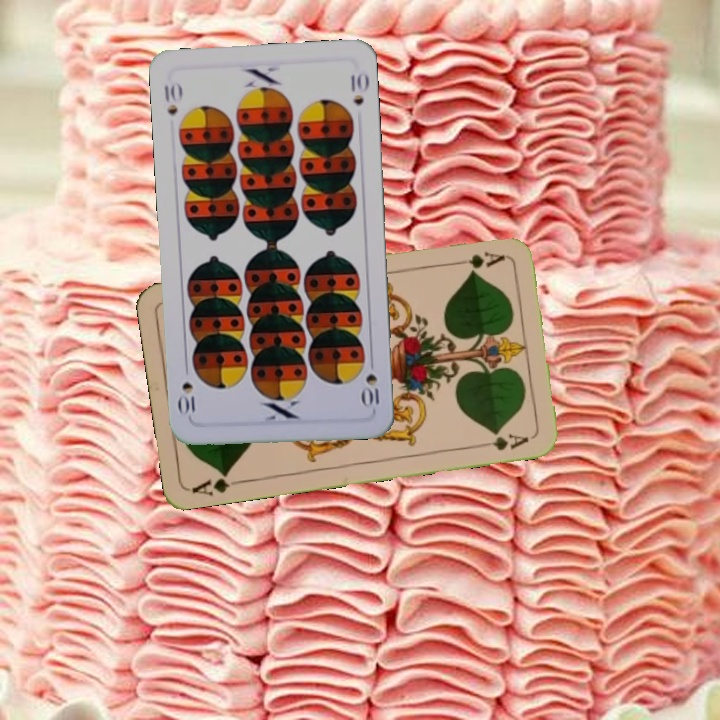GA: (188, 467, 247, 498), (448, 247, 507, 271)
S10: (360, 353, 382, 410), (160, 78, 184, 118)
